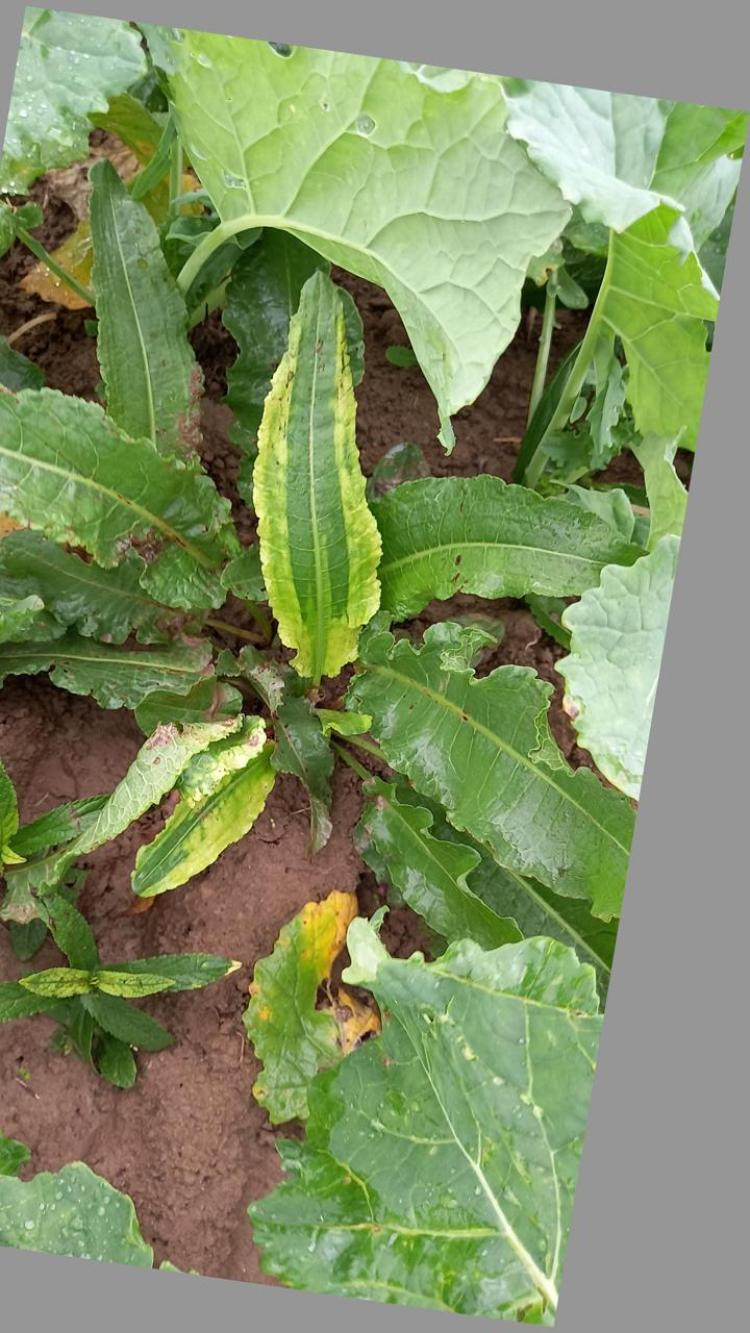zhavel: (4, 296, 654, 945)
